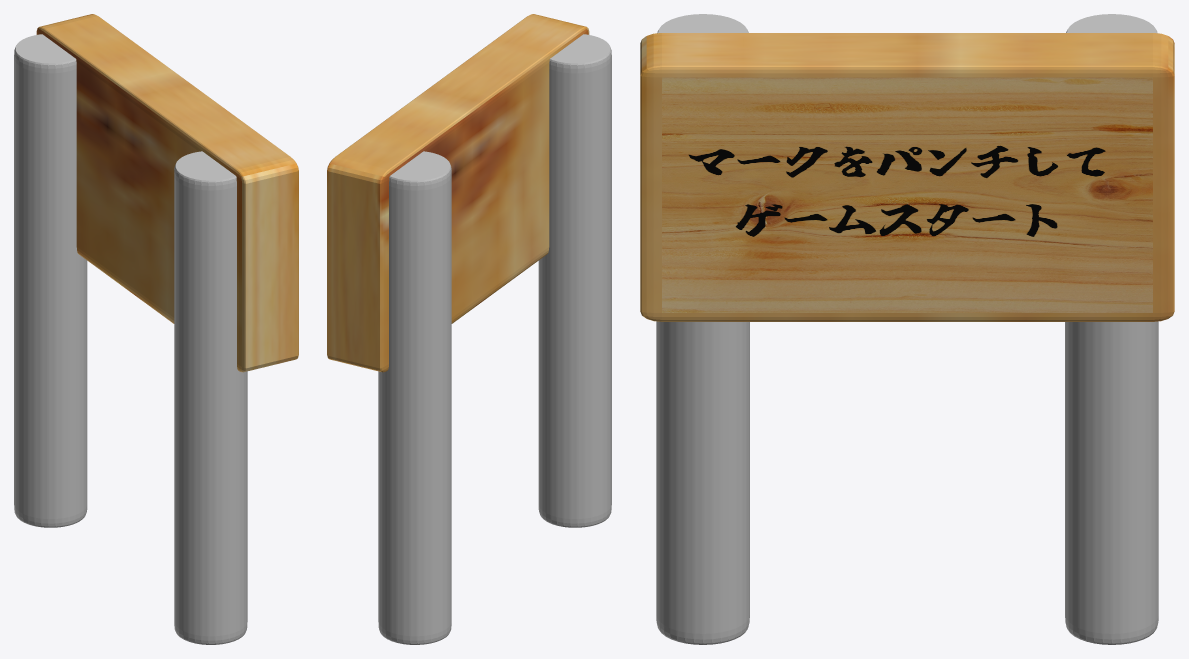
The model's file is kanban2.fbx.
3 renders of one model, left to right at view 1: azimuth 30°, elevation 25°; view 2: azimuth 150°, elevation 25°; view 3: azimuth 270°, elevation 25°, orthographic. The views are drawn at different scales.
Visible parts, largest first — view 1: Cylinder, Cube; view 2: Cylinder, Cube; view 3: Cube, Cylinder.
Boxes of the visible parts, x1,y1,x2,y2 form: Cylinder: [14, 34, 247, 644]; Cube: [36, 14, 298, 372]; Cylinder: [378, 34, 611, 644]; Cube: [327, 14, 589, 372]; Cube: [640, 33, 1174, 321]; Cylinder: [656, 14, 1158, 644].
Bounding box in the file's own units: 35.12 × 162 × 131.
